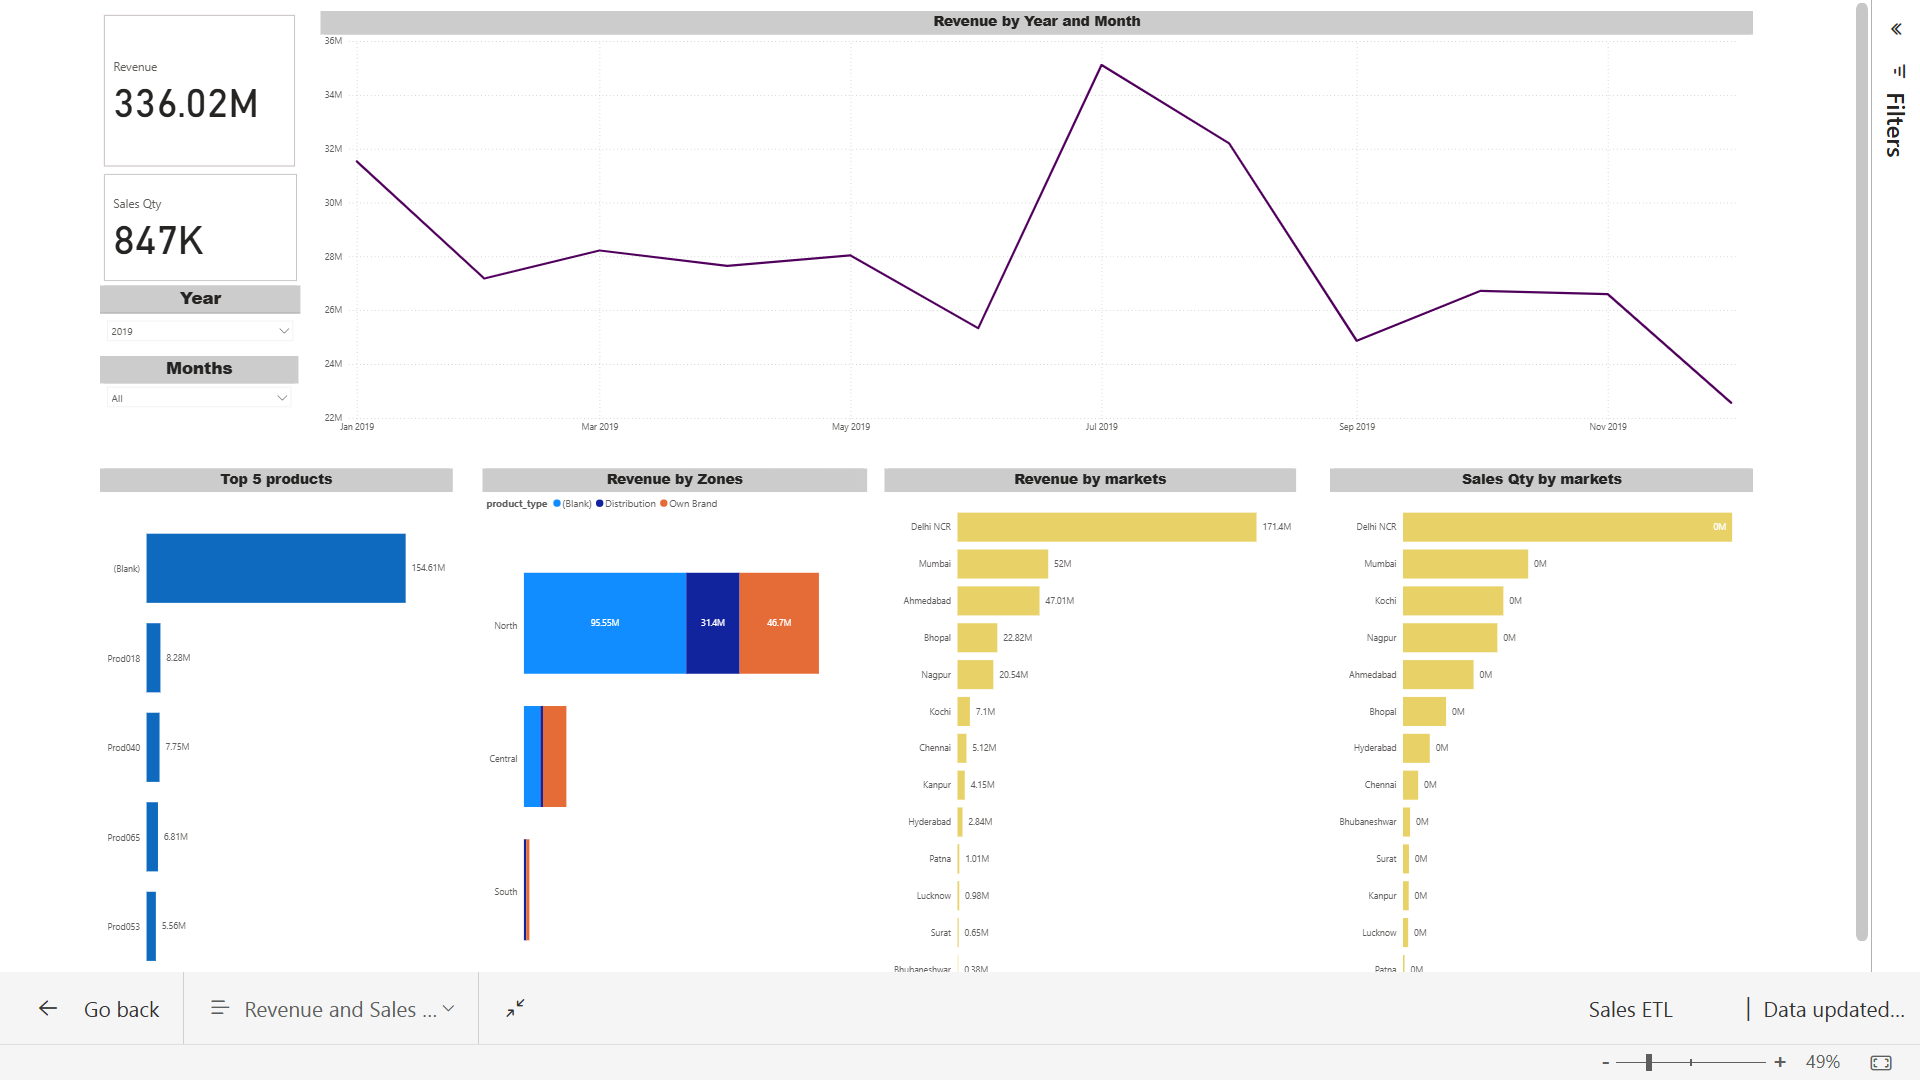

The page's visual inventory and layout, read from the dashboard file:
{"tool":"powerbi","page":{"name":"Revenue and Sales insight","canvas":[2250,1350],"ordinal":0},"visuals":[{"type":"cardVisual","title":"Revenue","fields":{"Data":["BaseMeasures.Revenue"]},"box":[0,0,270,216.7],"z":0},{"type":"cardVisual","fields":{"Data":["BaseMeasures.Sales Qty"]},"box":[0,216.7,273.3,156.7],"z":1000},{"type":"barChart","title":"Revenue by markets","fields":{"Y":["BaseMeasures.Revenue"],"Category":["sales markets.markets_name"]},"box":[1066.7,623.3,560,726.7],"z":2000},{"type":"barChart","title":"Sales Qty by markets","fields":{"Y":["BaseMeasures.Sales Qty"],"Category":["sales markets.markets_name"]},"box":[1673.3,623.3,576.7,726.7],"z":3000},{"type":"slicer","title":"Year","fields":{"Values":["sales date.cy_date.Variation.Date Hierarchy.Year"]},"box":[0,373,273,97.3],"z":4000},{"type":"slicer","title":"Months","fields":{"Values":["sales date.cy_date.Variation.Date Hierarchy.Month"]},"box":[0,470,270,113.3],"z":5000},{"type":"barChart","title":"Revenue by Zones","fields":{"Y":["BaseMeasures.Revenue"],"Category":["sales markets.zone"],"Series":["sales products.product_type"]},"box":[520,623.3,523.3,726.7],"z":6000},{"type":"barChart","title":"Top 5 products","fields":{"Y":["BaseMeasures.Revenue"],"Category":["sales products.product_code"]},"box":[0,623.3,480,726.7],"z":7000},{"type":"lineChart","fields":{"Y":["BaseMeasures.Revenue"],"Category":["sales date.date.Variation.Date Hierarchy.Year","sales date.date.Variation.Date Hierarchy.Month"]},"box":[300,0,1950,583.3],"z":8000}]}

Visuals, with their boxes on the page's 2250x1350 design canvas (x1, y1, x2, y2). These are canvas units, not pixel positions in the 1920x1080 screenshot, which may show the page scaled, cropped or inside an application window:
"Revenue" cardVisual: 0,0,270,217
cardVisual - BaseMeasures.Sales Qty: 0,217,273,373
"Revenue by markets" barChart: 1067,623,1627,1350
"Sales Qty by markets" barChart: 1673,623,2250,1350
"Year" slicer: 0,373,273,470
"Months" slicer: 0,470,270,583
"Revenue by Zones" barChart: 520,623,1043,1350
"Top 5 products" barChart: 0,623,480,1350
lineChart - BaseMeasures.Revenue x sales date.date.Variation.Date Hierarchy.Year: 300,0,2250,583
